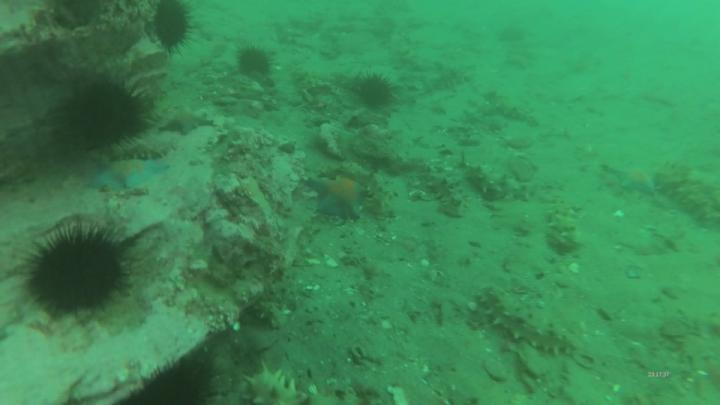echinus: (16, 224, 137, 324), (54, 73, 155, 155), (130, 346, 218, 405), (149, 1, 202, 62), (353, 70, 402, 116), (233, 43, 280, 81)
holothurian: (475, 284, 582, 361), (657, 166, 716, 227), (242, 356, 312, 405), (470, 158, 529, 202), (549, 199, 585, 256), (428, 168, 466, 221), (488, 92, 541, 128), (427, 61, 474, 89)
starfish: (306, 175, 374, 221), (82, 155, 171, 188), (610, 161, 656, 200), (163, 108, 216, 141)
